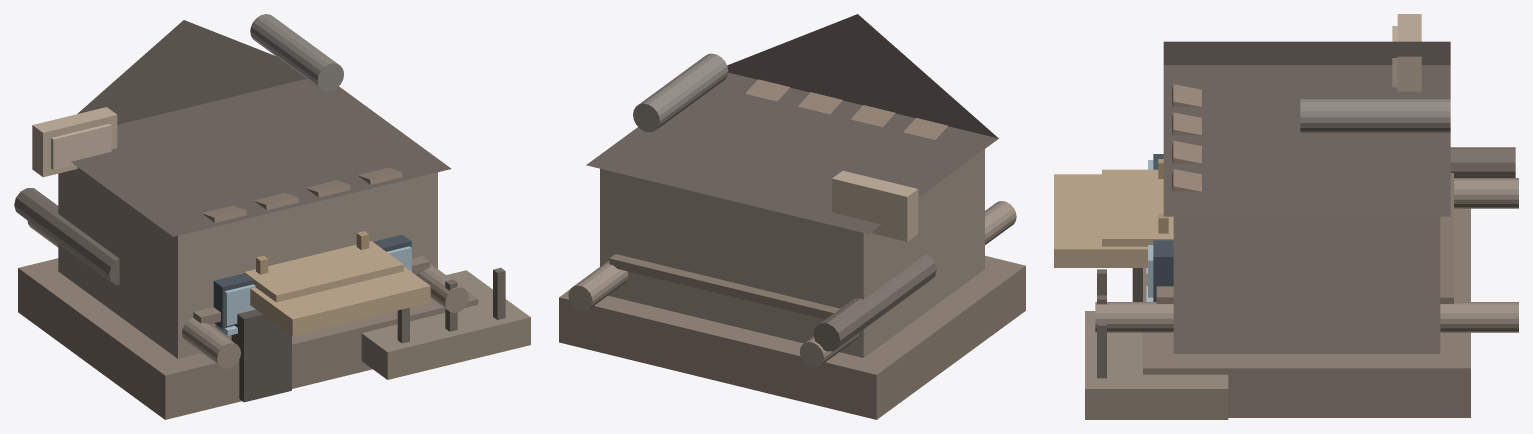
The model's file is coffee_shop.glb.
3 renders of one model, left to right at view 1: azimuth 30°, elevation 25°; view 2: azimuth 150°, elevation 25°; view 3: azimuth 270°, elevation 25°, orthographic. The views are drawn at different scales.
Visible parts, largest first — view 1: world; view 2: world; view 3: world.
Part boxes in pixels (left/top/right/bottom): world: left=14, top=14, right=530, bottom=419; world: left=559, top=14, right=1025, bottom=419; world: left=1054, top=14, right=1518, bottom=419.
Bounding box in the file's own units: 1.31 × 0.9934 × 1.36.
